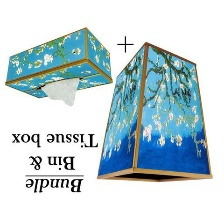tissue: (37, 74, 86, 110)
